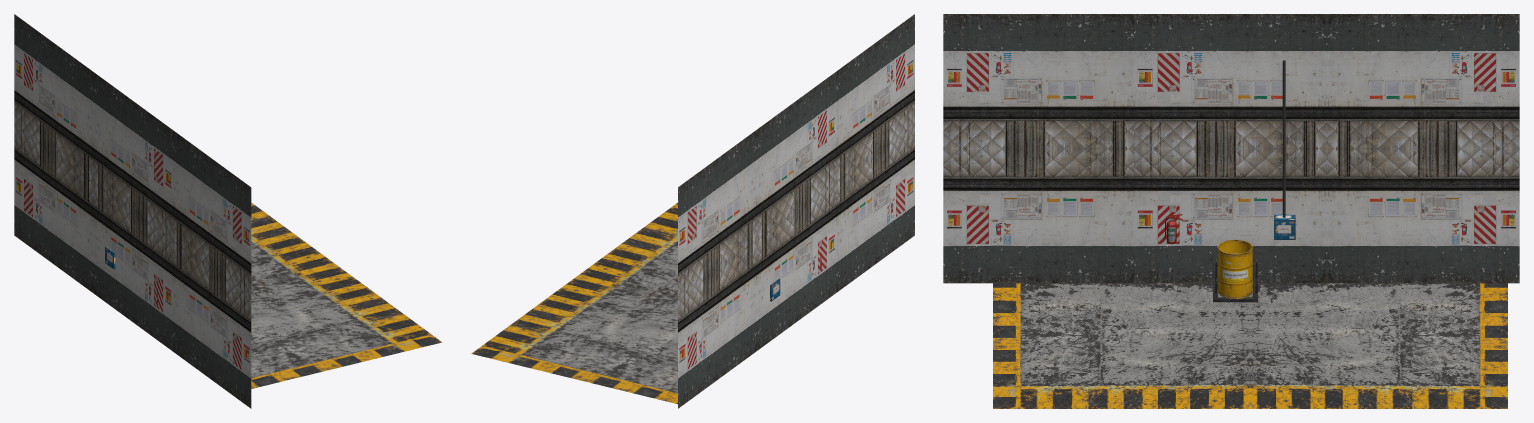
The model's file is escena.glb.
3 views of the same model, side by side, from view 1: azimuth 30°, elevation 25°; view 2: azimuth 150°, elevation 25°; view 3: azimuth 270°, elevation 25° (orthographic). The views are drawn at different scales.
Visible parts, largest first — view 1: pared, piso; view 2: pared, piso; view 3: pared, piso, tacho, caja, base.
Part boxes in pixels (x1=…): pared: x1=14, y1=14, x2=251, y2=408; piso: x1=251, y1=202, x2=442, y2=388; pared: x1=678, y1=14, x2=914, y2=408; piso: x1=471, y1=202, x2=677, y2=404; pared: x1=943, y1=14, x2=1519, y2=283; piso: x1=993, y1=283, x2=1507, y2=408; tacho: x1=1218, y1=240, x2=1252, y2=298; caja: x1=1274, y1=60, x2=1295, y2=239; base: x1=1213, y1=259, x2=1257, y2=302.
Bounding box in the file's own units: 25.93 × 25.85 × 49.96.
6 materials, 5 textured.
